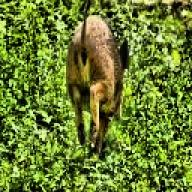boar: (65, 14, 129, 156)
